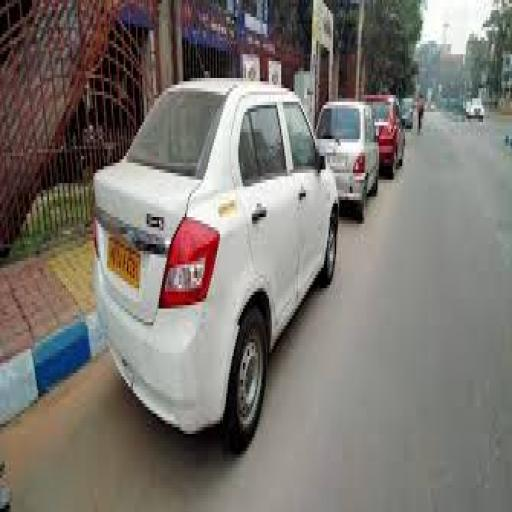License: (106, 224, 144, 294)
